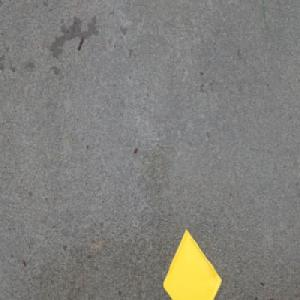PlasticPart: (162, 226, 223, 300)
